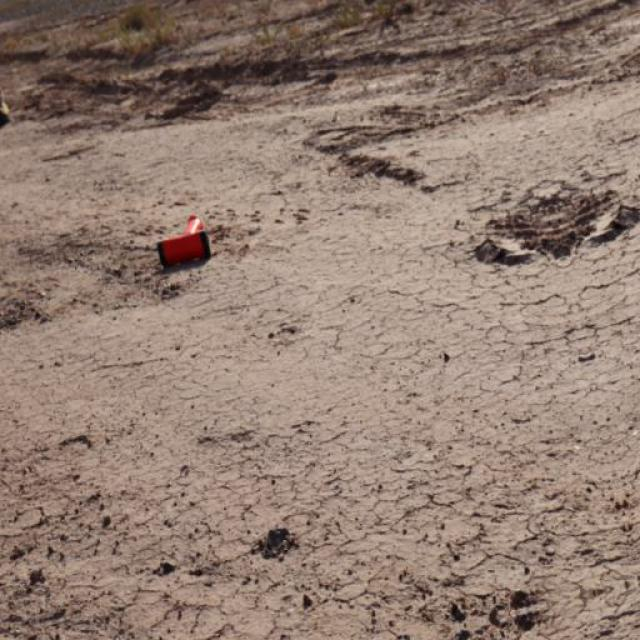mallet: (155, 212, 211, 268)
